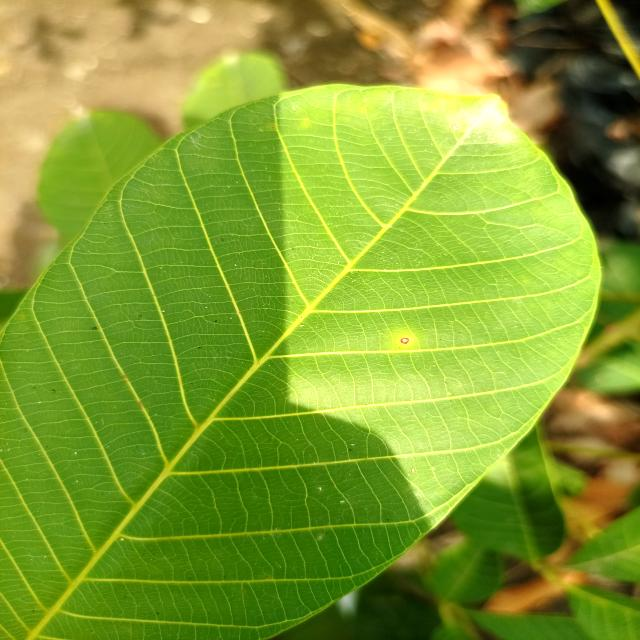Colletotrichum: (400, 337, 409, 344), (452, 124, 459, 132)
